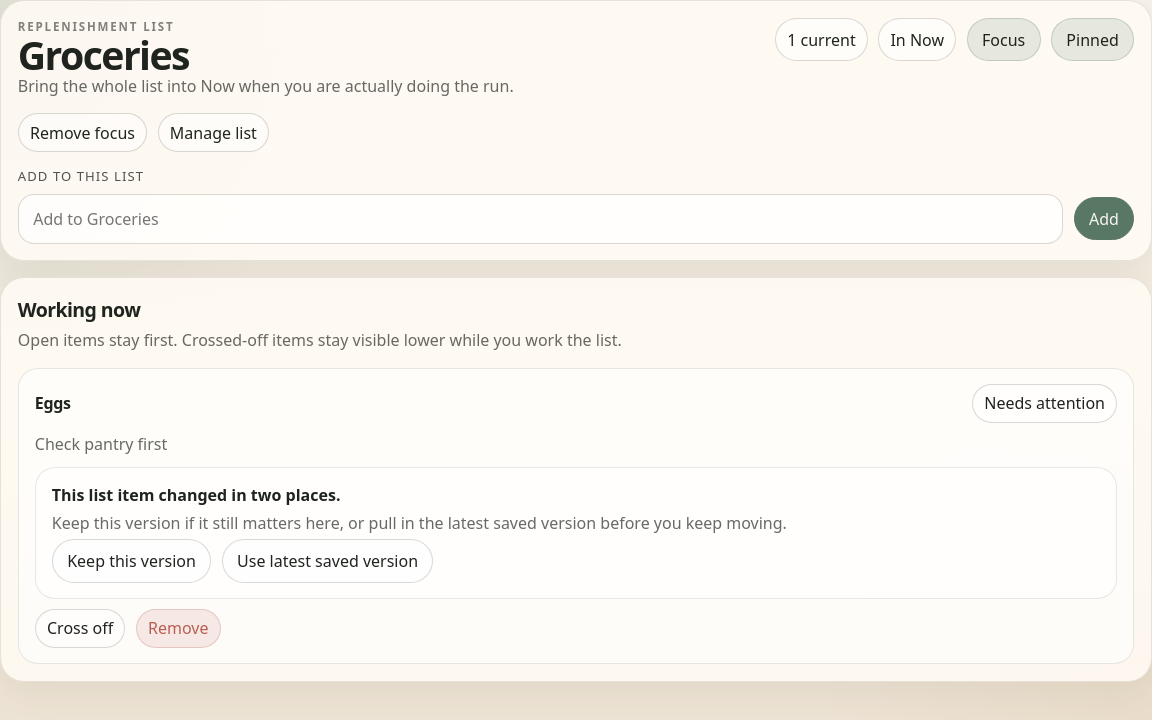
Test: ListView › opens the finish sheet for an active list run
The width and height of the screenshot is (1152, 720).
Click the button "Manage list" at [213, 133], box 158,114 -> 269,152
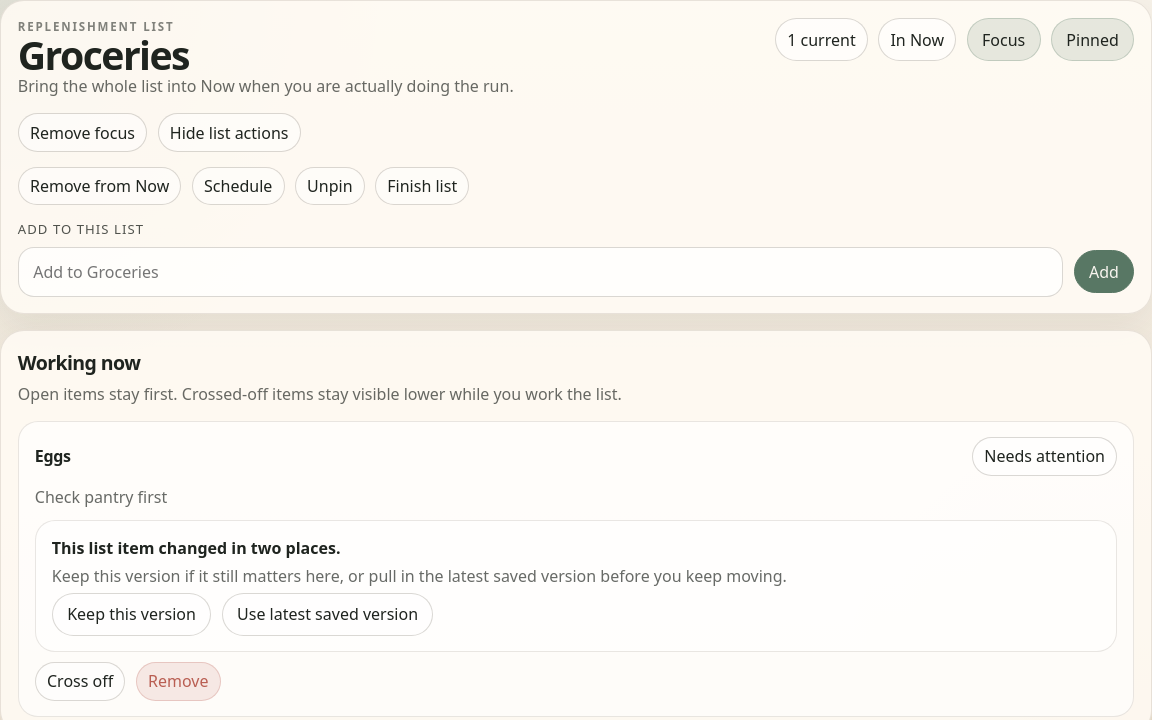
Click the button "Finish list" at [422, 186], box 375,167 -> 469,205
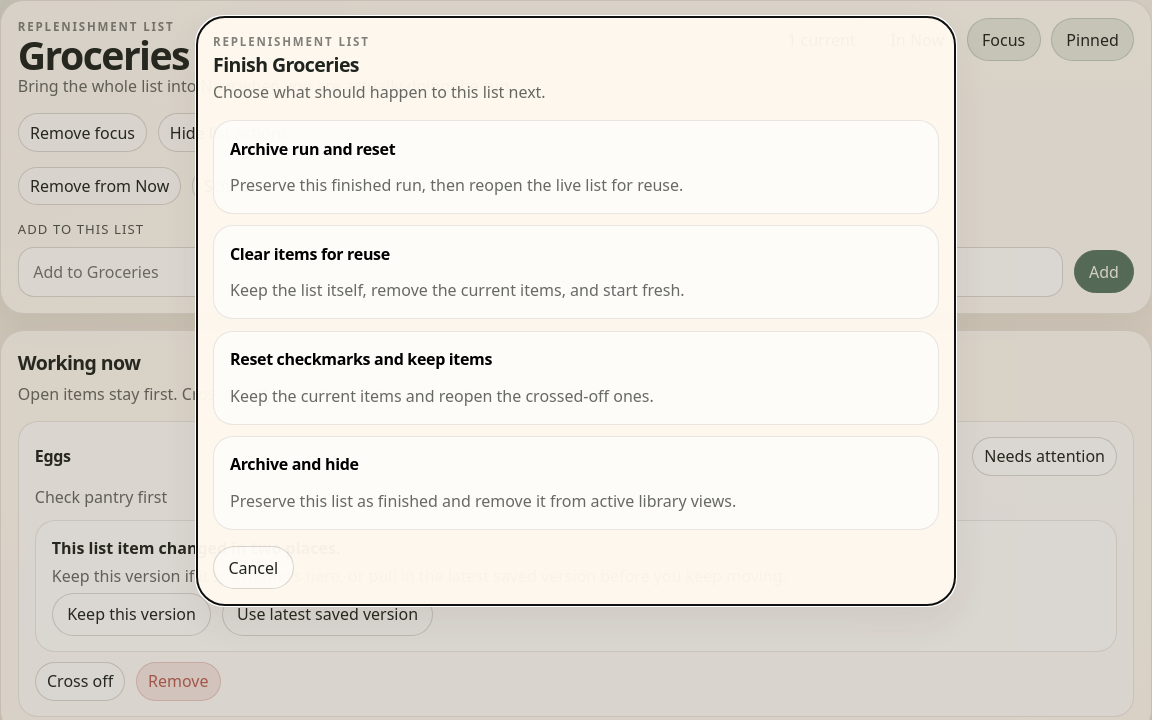
expect the heading "Finish Groceries" is shown: met, box 213,51 -> 359,78
expect the button "Archive run and reset" is shown: met, box 213,120 -> 939,214
